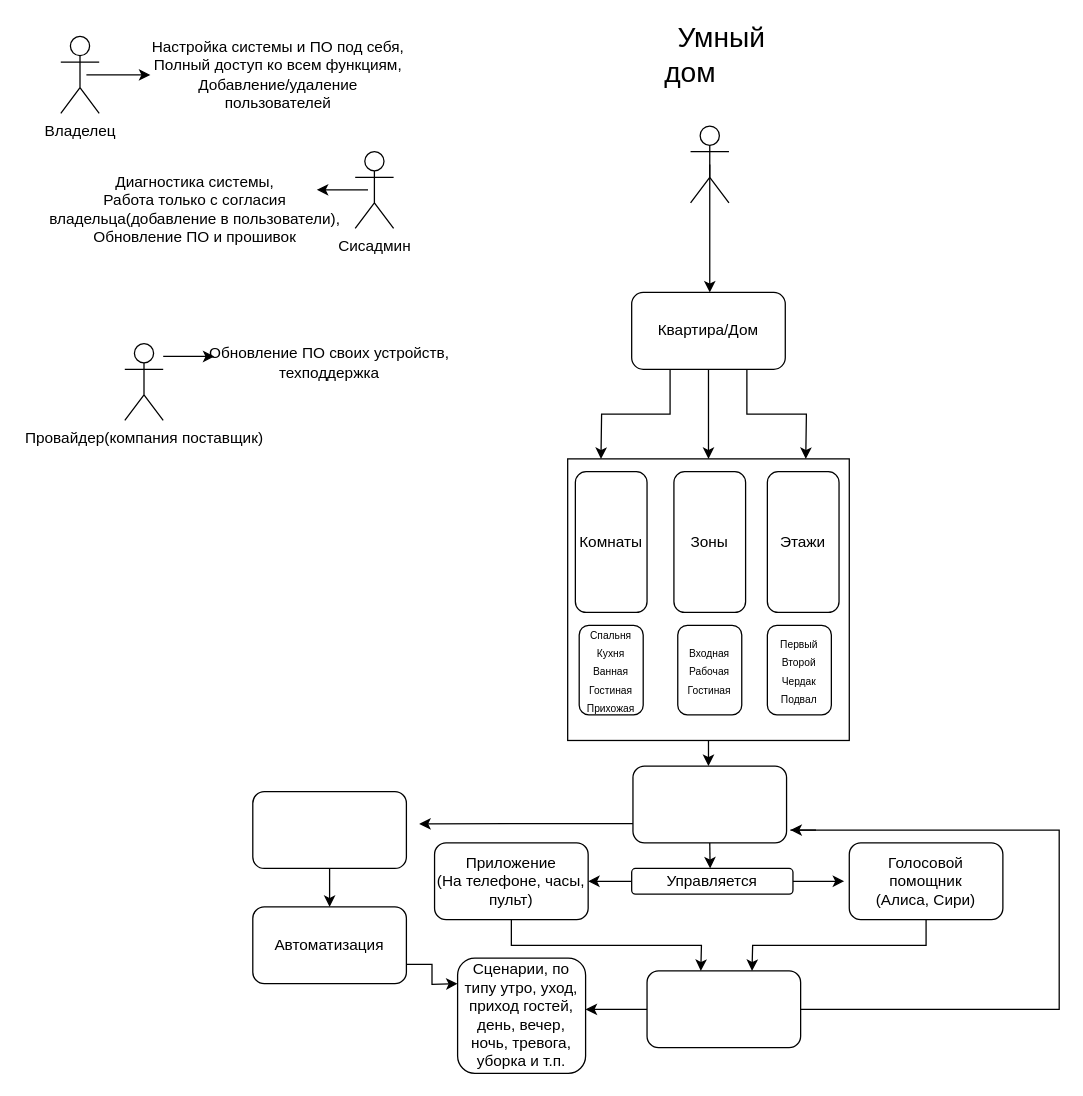
Some shapes in this 1083 by 1096 pixel diagram are drawn without their labels. The shapes that lost their labels are listed below. From the top down, each one's centre as x and y in pixels, then its label:
At point 709,164: "Пользователь".
At point 709,804: "Устройства (по типу лампочек, подогревов, различных устройств пользования)".
At point 329,829: "Провайдеры Домофон МЧС".
At point 723,1009: "Центр (колонка, контроллер)".
